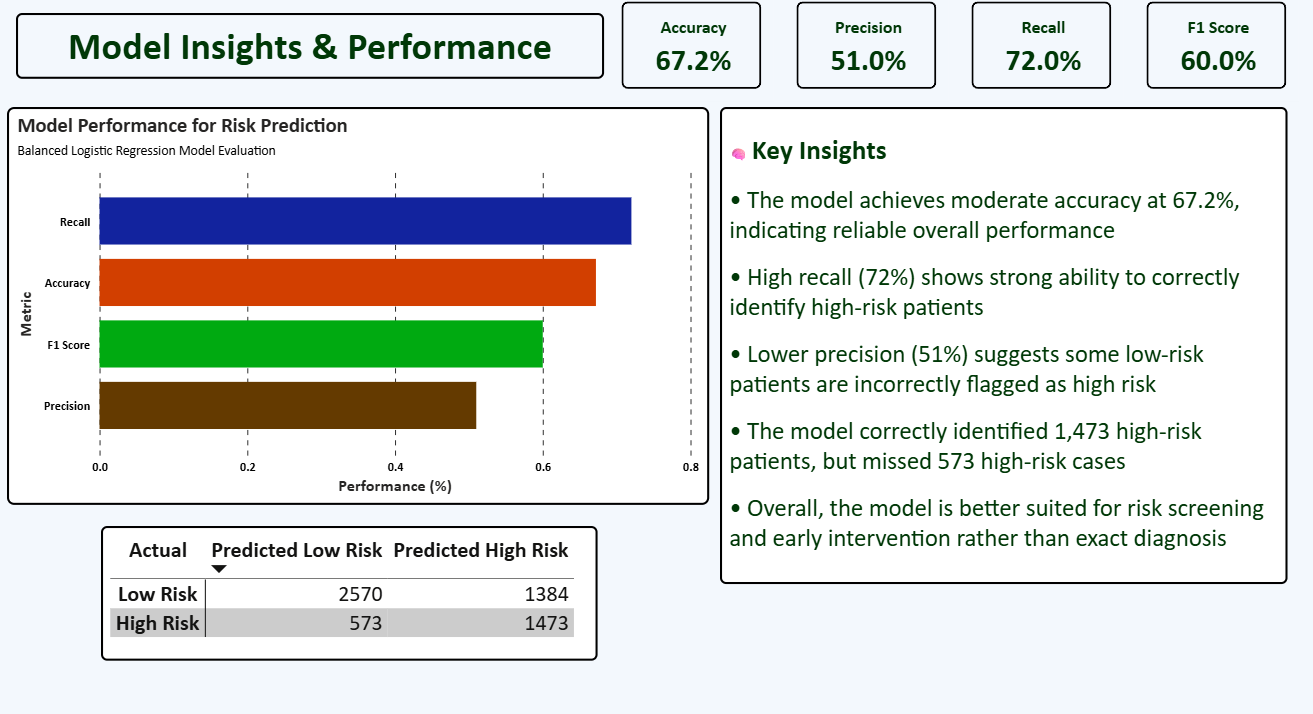

This screenshot's page, from the dashboard's own definition file:
{"tool":"powerbi","page":{"name":"Model Insights & Risk Drivers","canvas":[1280,720],"ordinal":1},"visuals":[{"type":"cardVisual","fields":{"Data":["healthcare_cleaned.Accuracy_M"]},"box":[587.5,5.8,170.2,119.6],"z":0},{"type":"cardVisual","fields":{"Data":["healthcare_cleaned.F1_M"]},"box":[1098.1,5.8,170.2,119.6],"z":1000},{"type":"cardVisual","fields":{"Data":["healthcare_cleaned.Recall_M"]},"box":[927.9,5.8,170.2,119.6],"z":2000},{"type":"cardVisual","fields":{"Data":["healthcare_cleaned.Precision_M"]},"box":[757.7,5.8,170.2,119.6],"z":3000},{"type":"clusteredBarChart","title":"Model Performance for Risk Prediction","fields":{"Category":["Model_Metrics.Metric"],"Y":["Model_Metrics.Metric Value"]},"box":[6.8,125.5,682.8,387.1],"z":4000},{"type":"textbox","box":[15.6,34,571.9,64.2],"z":5000},{"type":"pivotTable","fields":{"Rows":["Confusion_Matrix.Actual"],"Values":["Sum(Confusion_Matrix.Predicted Low Risk)","Sum(Confusion_Matrix.Predicted High Risk)"]},"box":[98.2,533,483.4,131.3],"z":6000},{"type":"textbox","box":[700.3,125.5,552.5,464],"z":7000}]}

Visuals, with their boxes on the page's 1280x720 design canvas (x1, y1, x2, y2). These are canvas units, not pixel positions in the 1313x714 screenshot, which may show the page scaled, cropped or inside an application window:
cardVisual - healthcare_cleaned.Accuracy_M: (588,6,758,125)
cardVisual - healthcare_cleaned.F1_M: (1098,6,1268,125)
cardVisual - healthcare_cleaned.Recall_M: (928,6,1098,125)
cardVisual - healthcare_cleaned.Precision_M: (758,6,928,125)
"Model Performance for Risk Prediction" clusteredBarChart: (7,126,690,513)
textbox: (16,34,588,98)
pivotTable - Confusion_Matrix.Actual x Sum(Confusion_Matrix.Predicted Low Risk): (98,533,582,664)
textbox: (700,126,1253,590)
